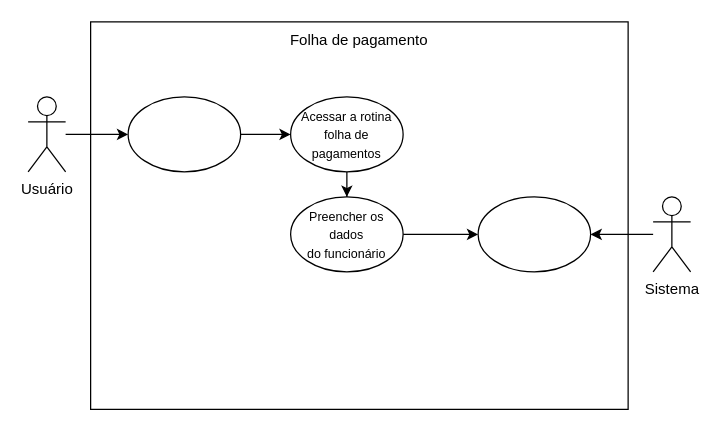
Some shapes in this 720 by 431 pixel diagram are drawn without their labels. Here are the shapes that lost their labels. From the top down, the box of each, then its label:
(127, 96, 241, 172): Acessar sistema
(477, 196, 591, 272): Gerar folha de pagamento
